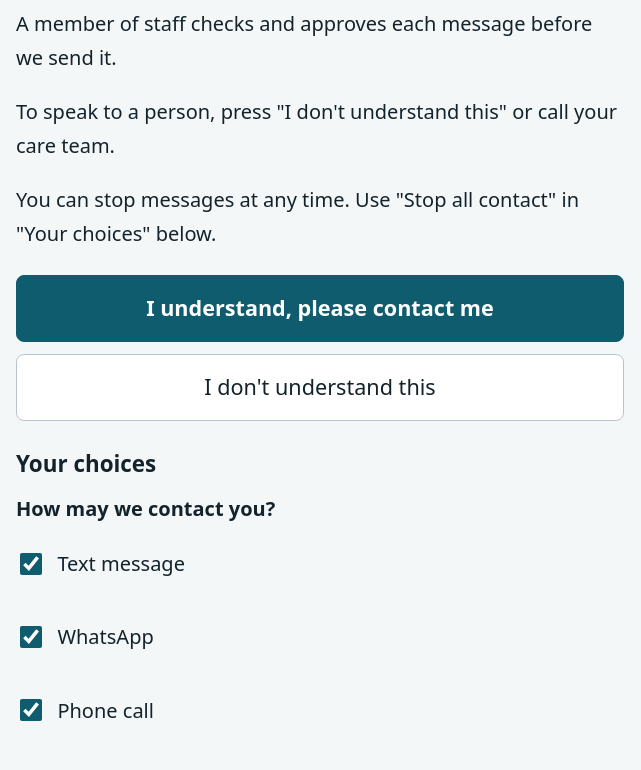
Patient page › "I don't understand this" posts callback_requested (with the current language)
(page scrolled)
Click the button "I don't understand this". click: coordinates (320, 388)
box: 16,354 -> 624,422
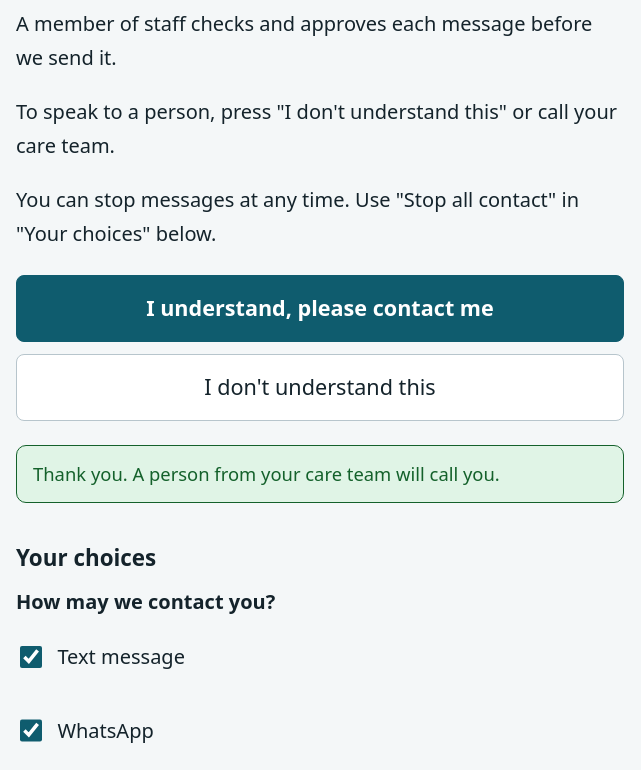
Expected: the message "Thank you. A person from your care team will call you." is shown, 16,446 -> 624,503
